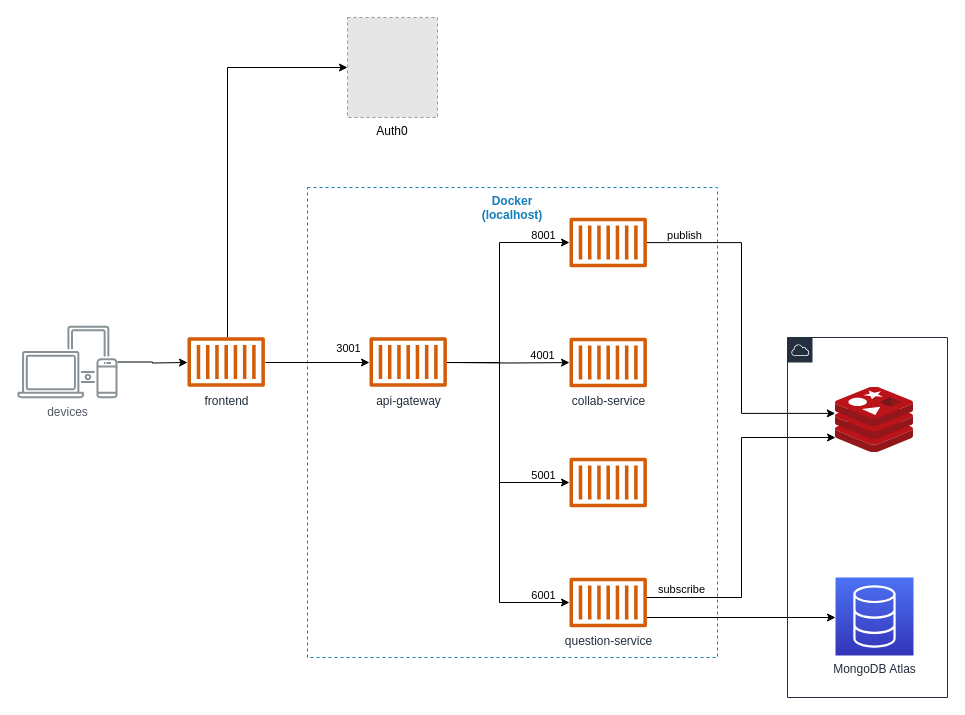
The diagram is 965 pixels wide and 715 high, and some of its shapes have lost their labels. Grey dashed boxes stand in for pictures. Each missing label, with the box of its shape:
chat-service: (569, 457, 646, 507)
Cloud services: (786, 336, 948, 698)
matching-service: (569, 217, 646, 267)
Redis Stack: (835, 386, 913, 452)
